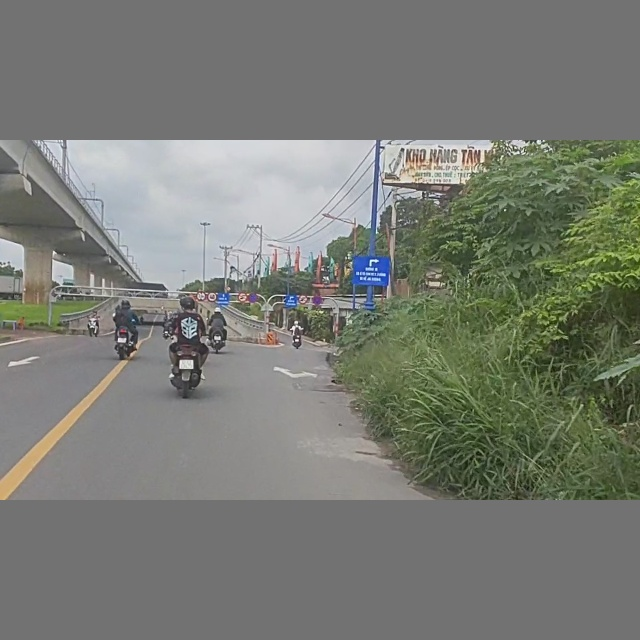P.107: (237, 292, 248, 302), (297, 294, 308, 304)
P.117*: (196, 291, 206, 301)
P.127*40: (207, 291, 217, 303)
P.130: (248, 293, 259, 303), (313, 295, 323, 305)
